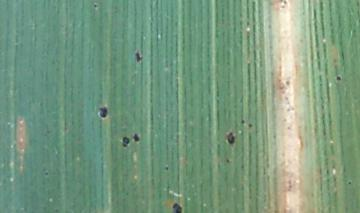tarspot: (96, 106, 109, 120), (226, 131, 236, 147), (134, 49, 144, 64), (171, 201, 183, 213), (120, 135, 130, 149), (132, 131, 141, 144), (334, 74, 342, 82), (239, 117, 247, 125), (283, 78, 291, 86), (246, 120, 252, 129), (225, 157, 231, 164), (92, 3, 99, 9), (43, 170, 49, 177), (346, 180, 352, 186), (163, 164, 168, 171), (282, 1, 289, 6), (276, 1, 284, 3)
